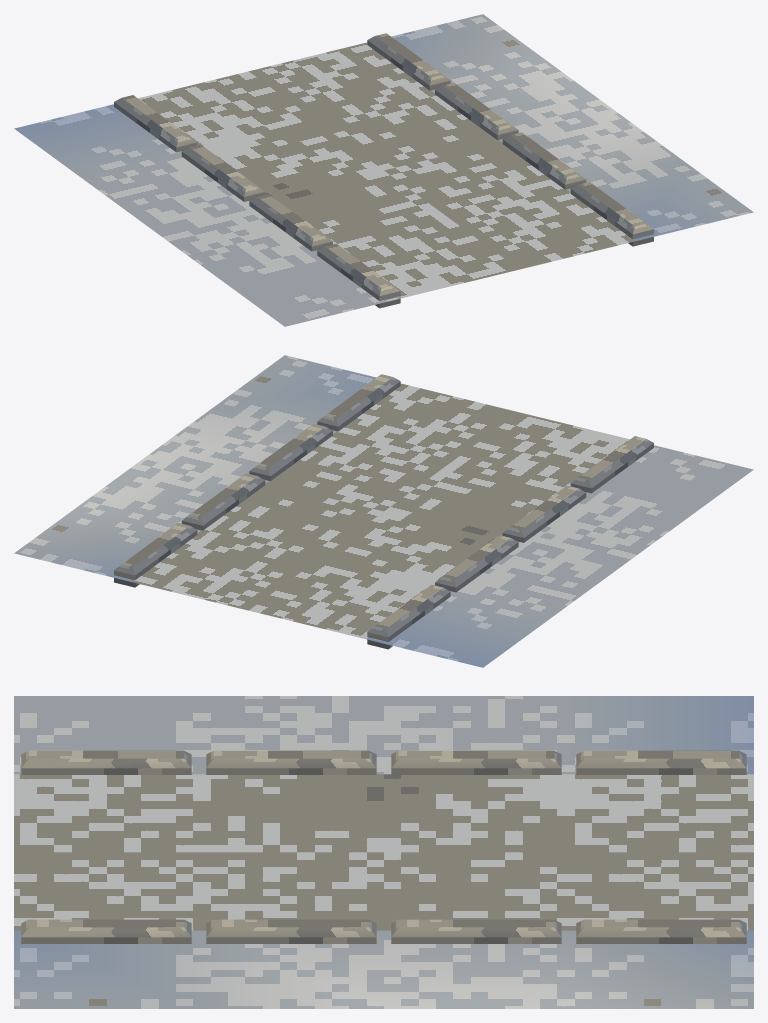
Rendered from mter.ground__path.glb.
3 views of the same model, one above another, from view 1: azimuth 30°, elevation 25°; view 2: azimuth 150°, elevation 25°; view 3: azimuth 270°, elevation 25° (orthographic). The views are drawn at different scales.
Visible parts, largest first — view 1: kit_shell_ground, kit_kerbs; view 2: kit_shell_ground, kit_kerbs; view 3: kit_shell_ground, kit_kerbs.
Part boxes in pixels (x1,y1,x2,y2): kit_shell_ground: (14, 14, 753, 326); kit_kerbs: (114, 33, 653, 308); kit_shell_ground: (14, 355, 753, 667); kit_kerbs: (114, 374, 653, 649); kit_shell_ground: (14, 696, 753, 1008); kit_kerbs: (21, 750, 746, 943).
Bounding box in the file's own units: 4 × 0.14 × 4.
Materials: 3 (3 with a texture image).
